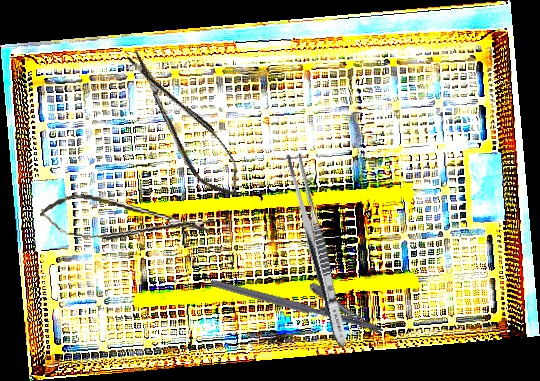Dressing Forceps: (282, 149, 353, 351)
Micro Scissor: (117, 39, 251, 207), (38, 189, 218, 253)
Needle Holder: (209, 255, 391, 336)
